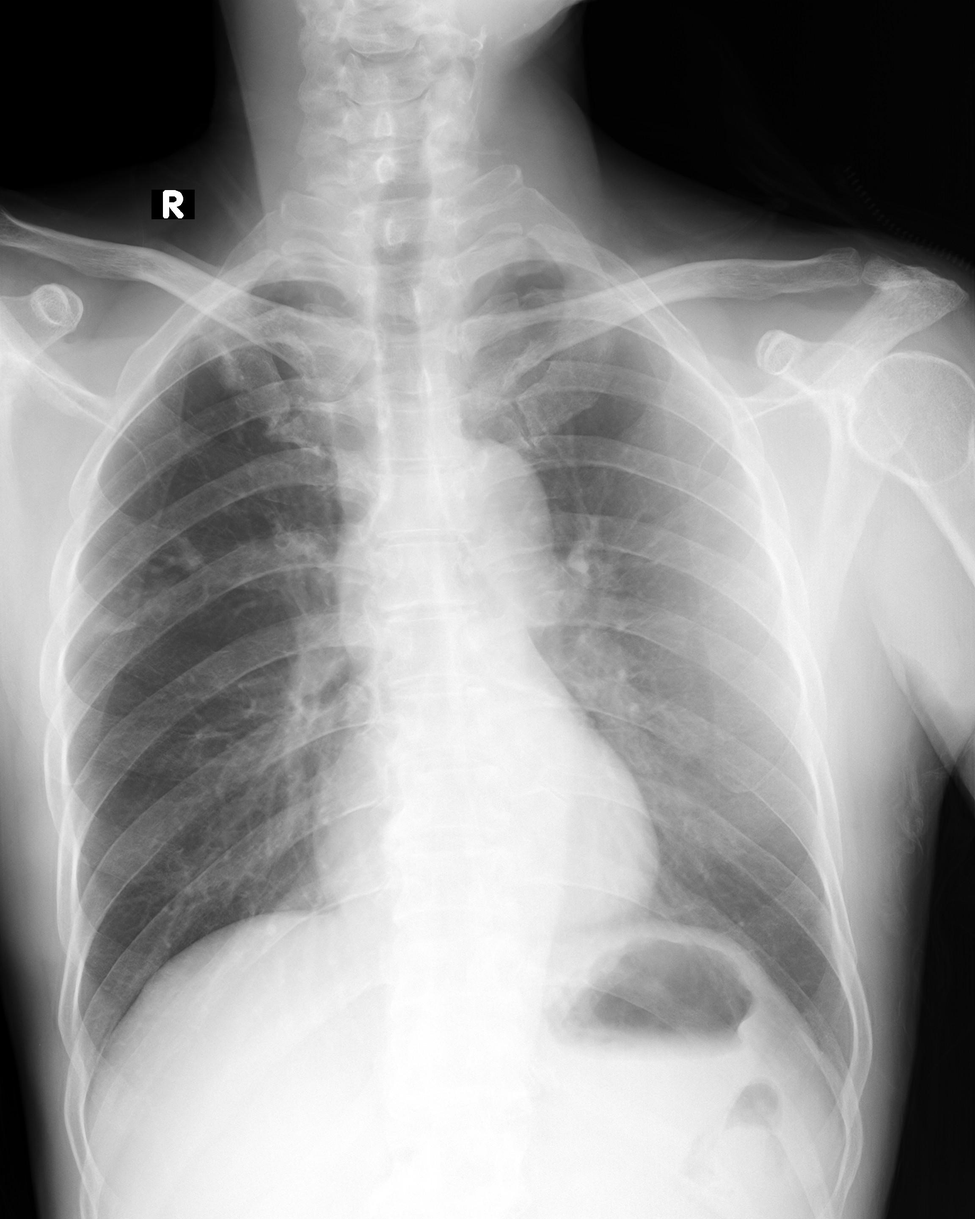Pulmonary fibrosis: (80, 514, 206, 638), (197, 328, 284, 442)
